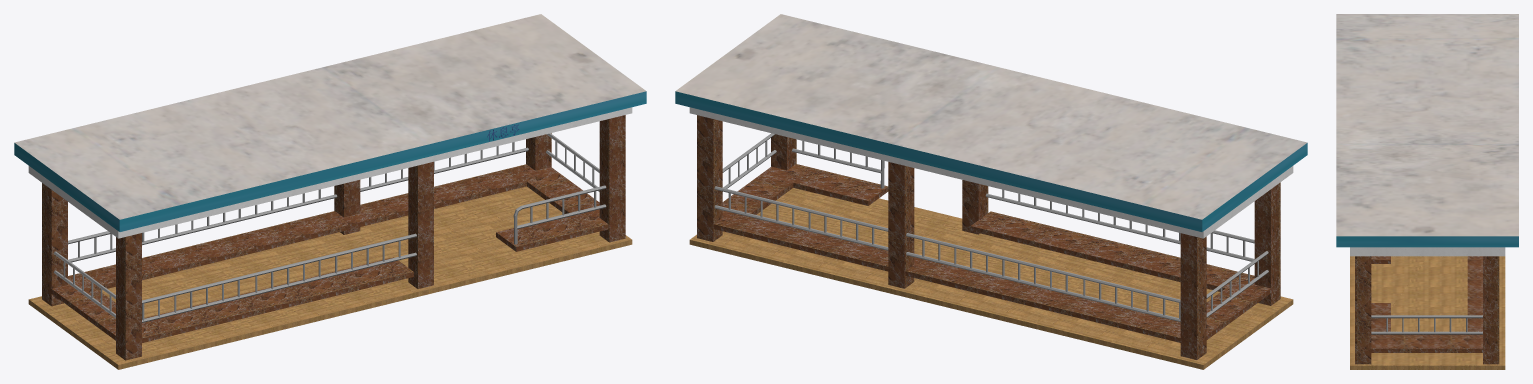
File: CK-liangting01-JZ.FBX
3 renders of one model, left to right at view 1: azimuth 30°, elevation 25°; view 2: azimuth 150°, elevation 25°; view 3: azimuth 270°, elevation 25°, orthographic. The views are drawn at different scales.
Visible parts, largest first — view 1: CK-liangting01-JZ; view 2: CK-liangting01-JZ; view 3: CK-liangting01-JZ.
Part boxes in pixels (<box>): CK-liangting01-JZ: <box>14,14,646,369</box>; CK-liangting01-JZ: <box>675,14,1307,369</box>; CK-liangting01-JZ: <box>1336,14,1518,369</box>.
Size of the model in its own units: 11.25 by 3.21 by 3.91.
Materials: 6 (5 with a texture image).
